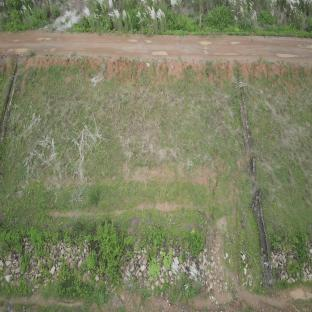rock_toe: (2, 232, 219, 298), (273, 242, 312, 285)
slope_drain: (0, 65, 21, 151)
vegetation: (5, 227, 86, 271), (85, 226, 129, 292), (46, 257, 106, 299), (98, 225, 122, 262)
